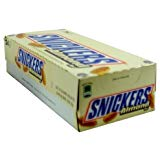snickers: (27, 34, 118, 61), (86, 86, 150, 118), (17, 47, 40, 72)
